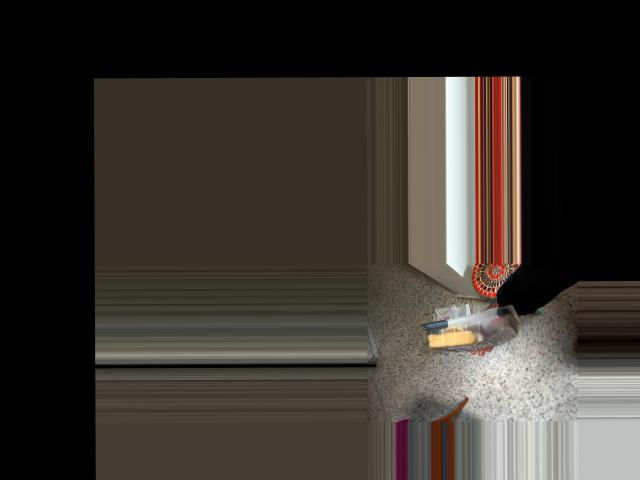cheese: (424, 301, 522, 352)
